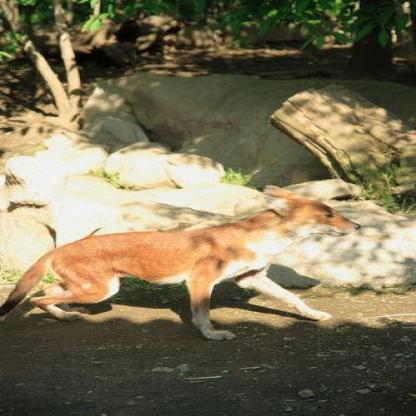dhole: (0, 182, 360, 340)
